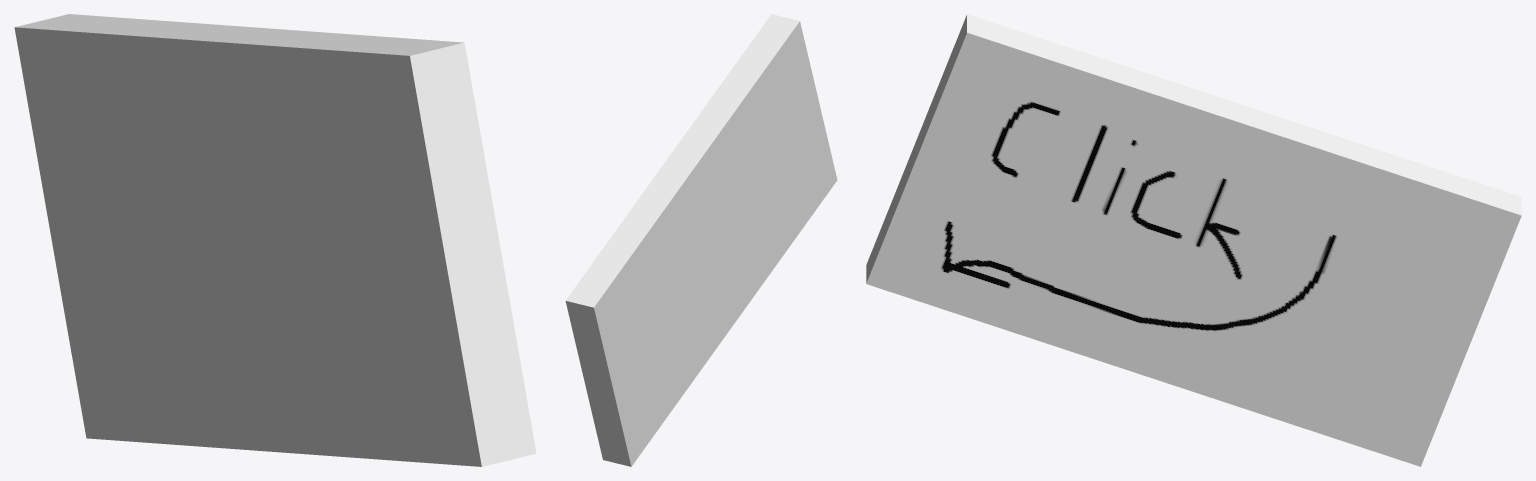
The model's file is sign.glb.
3 renders of one model, left to right at view 1: azimuth 30°, elevation 25°; view 2: azimuth 150°, elevation 25°; view 3: azimuth 270°, elevation 25°, orthographic. The views are drawn at different scales.
Parts seen in each view (by area): view 1: Cube; view 2: Cube; view 3: Cube.
Boxes of the visible parts, <box> form: Cube: <box>14,14,536,466</box>; Cube: <box>565,14,837,466</box>; Cube: <box>866,14,1521,466</box>.
Bounding box in the file's own units: 0.6 × 6.49 × 8.89.
Materials: 1 (1 with a texture image).
